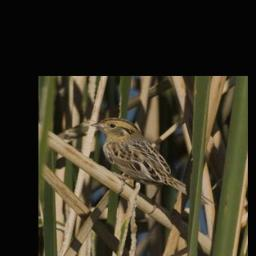Sparrow: (88, 116, 215, 207)
